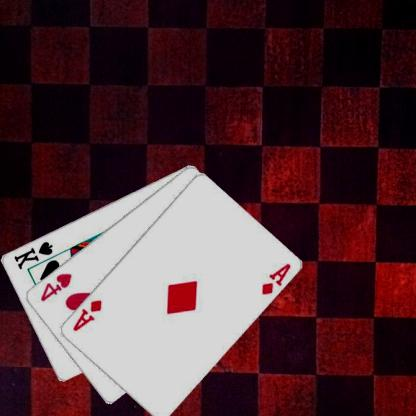4H: (39, 270, 75, 303)
AD: (260, 261, 293, 296), (72, 297, 104, 333)
KS: (12, 239, 56, 270)
